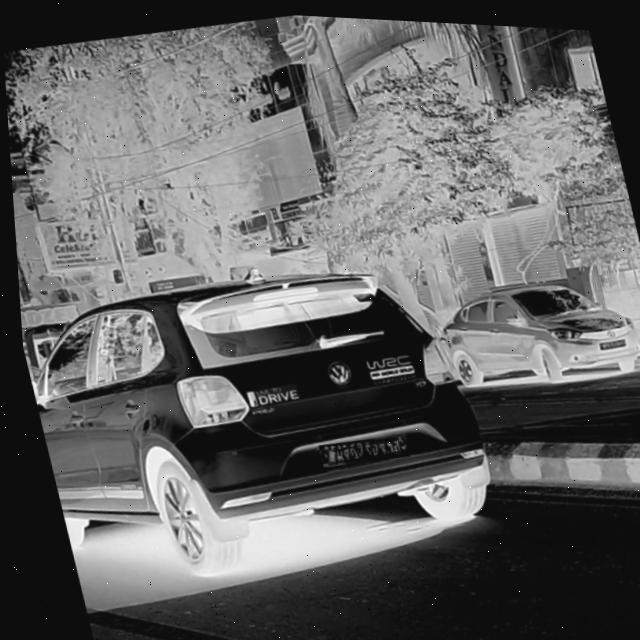0: (343, 443, 352, 456), (391, 434, 400, 447)
2: (374, 437, 380, 451)
3: (385, 434, 393, 449)
4: (379, 435, 388, 450)
7: (350, 441, 358, 455)
C: (358, 438, 367, 453)
G: (365, 437, 374, 452)
IND: (320, 447, 332, 462)
Indian_registered: (313, 434, 400, 460)
M: (328, 445, 339, 459)
P: (336, 443, 345, 458)
